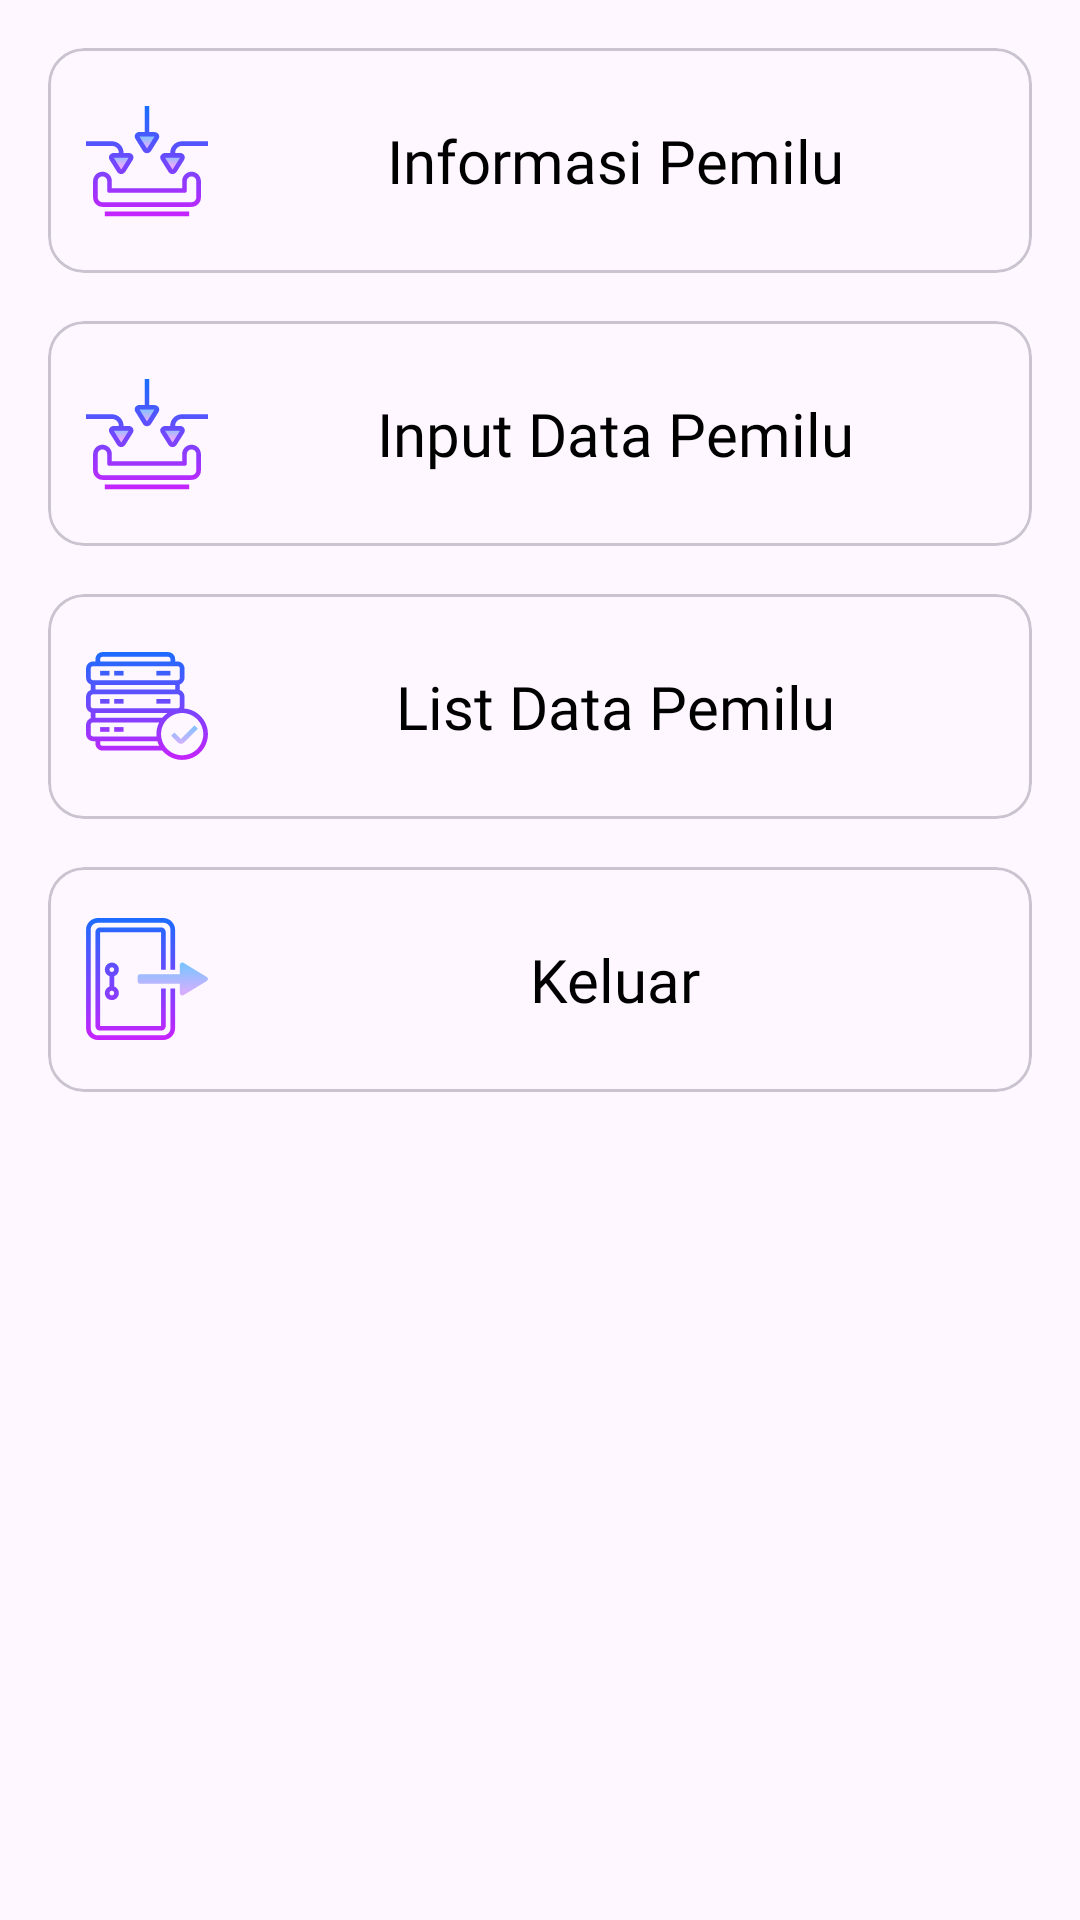

Locate icon controls on the screen. Image size 1080px×1920px, boxes as (x1=x1, y1=y1, x2=x2, y2=y2).
database: (x1=86, y1=652, x2=208, y2=760)
